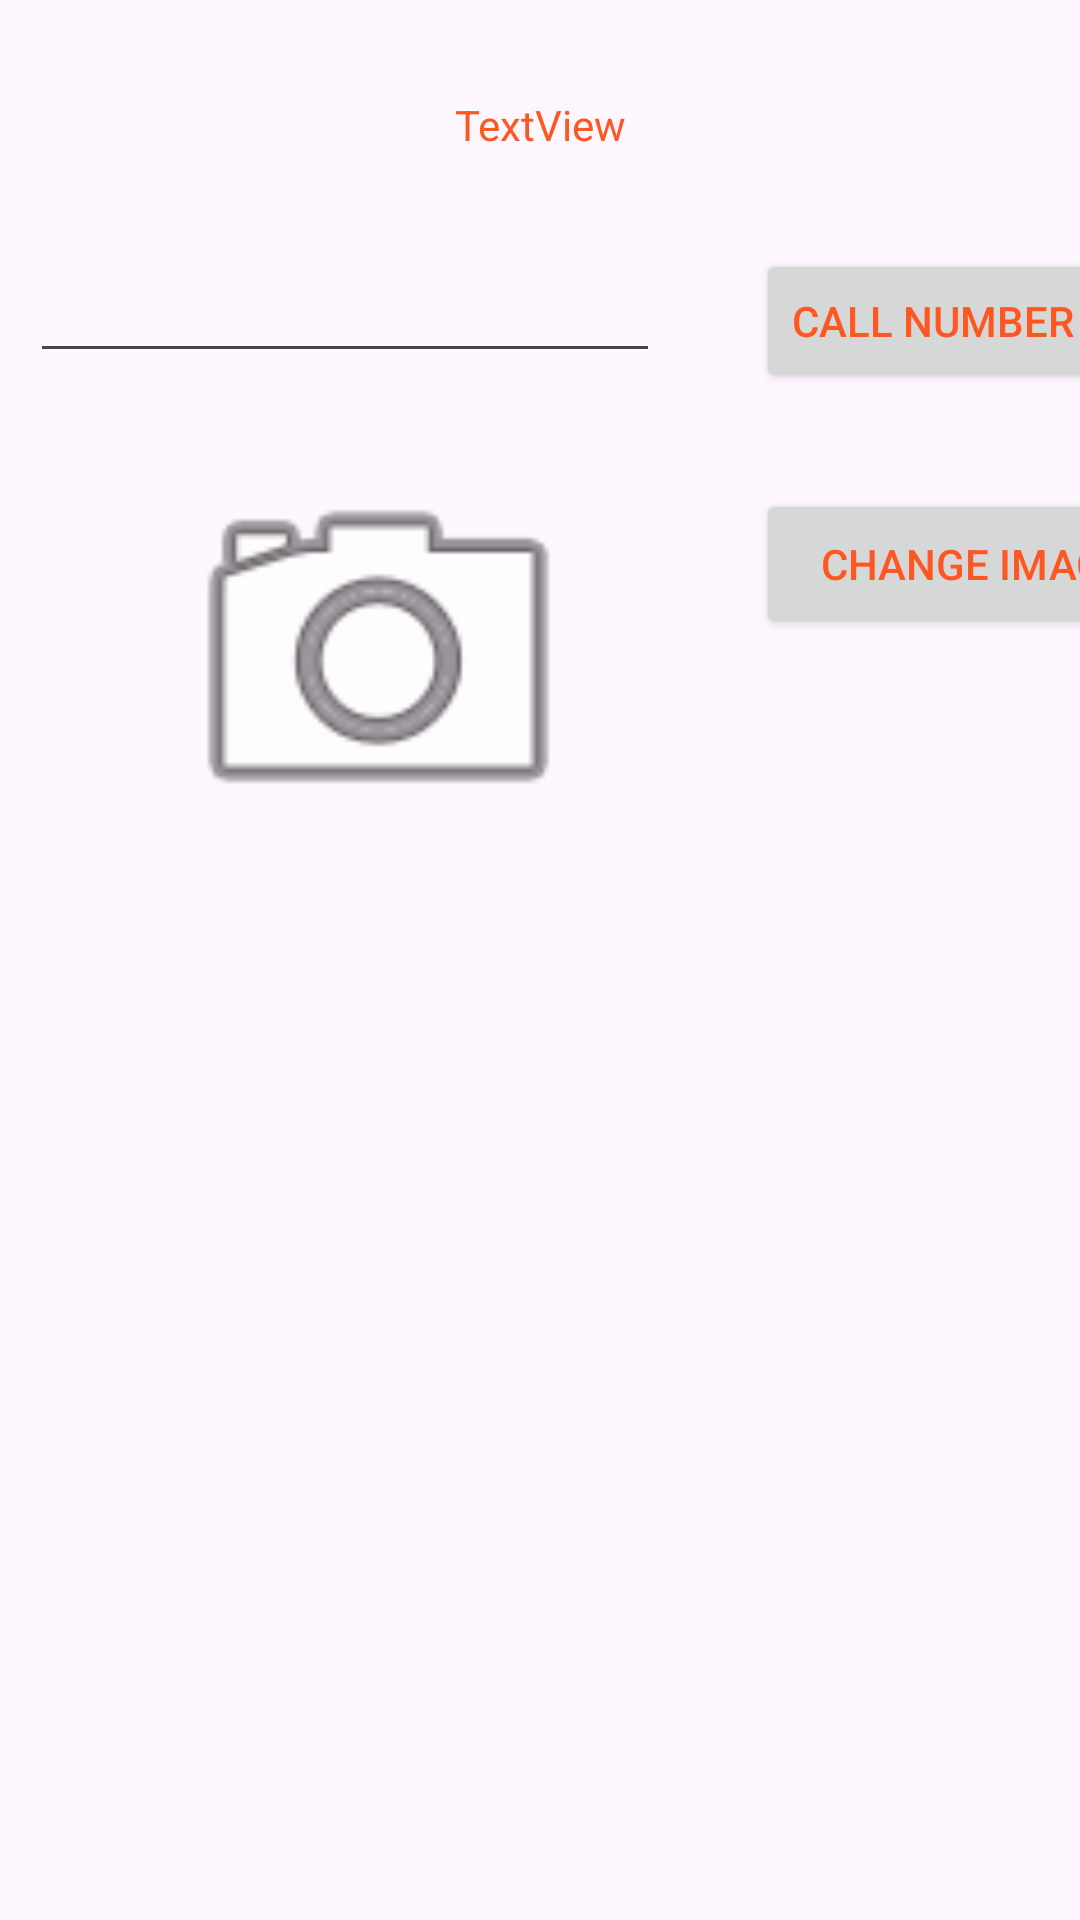

Icon bounding boxes for this 1080px x 1920px phone screenshot, format region(x1, y1, x2, y2):
camera: region(208, 511, 549, 783)
